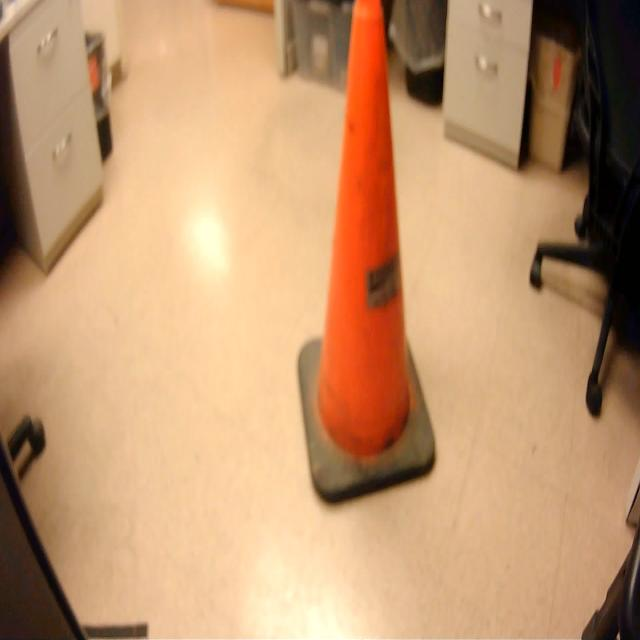traffic cone: (294, 1, 440, 509)
